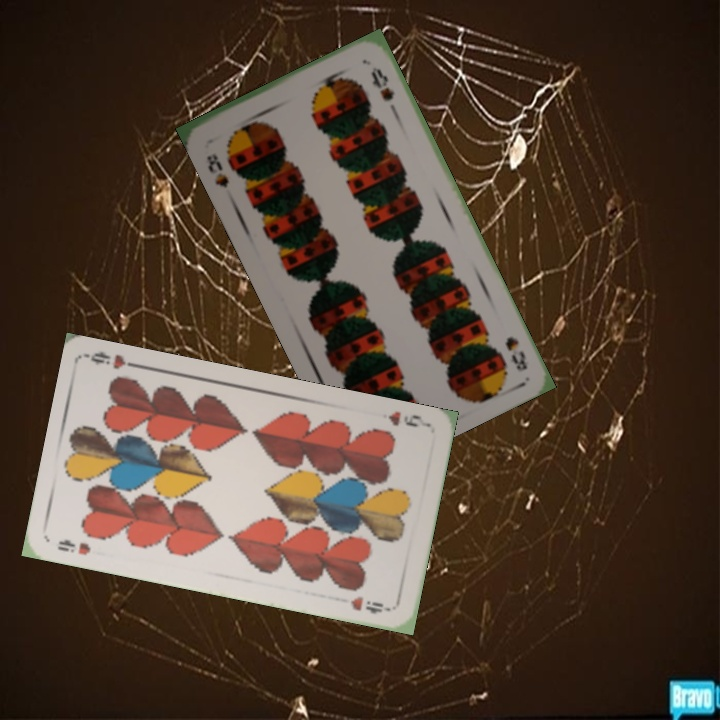H9: (384, 407, 429, 430), (53, 535, 94, 558)
S8: (202, 149, 232, 191), (501, 332, 531, 374)
